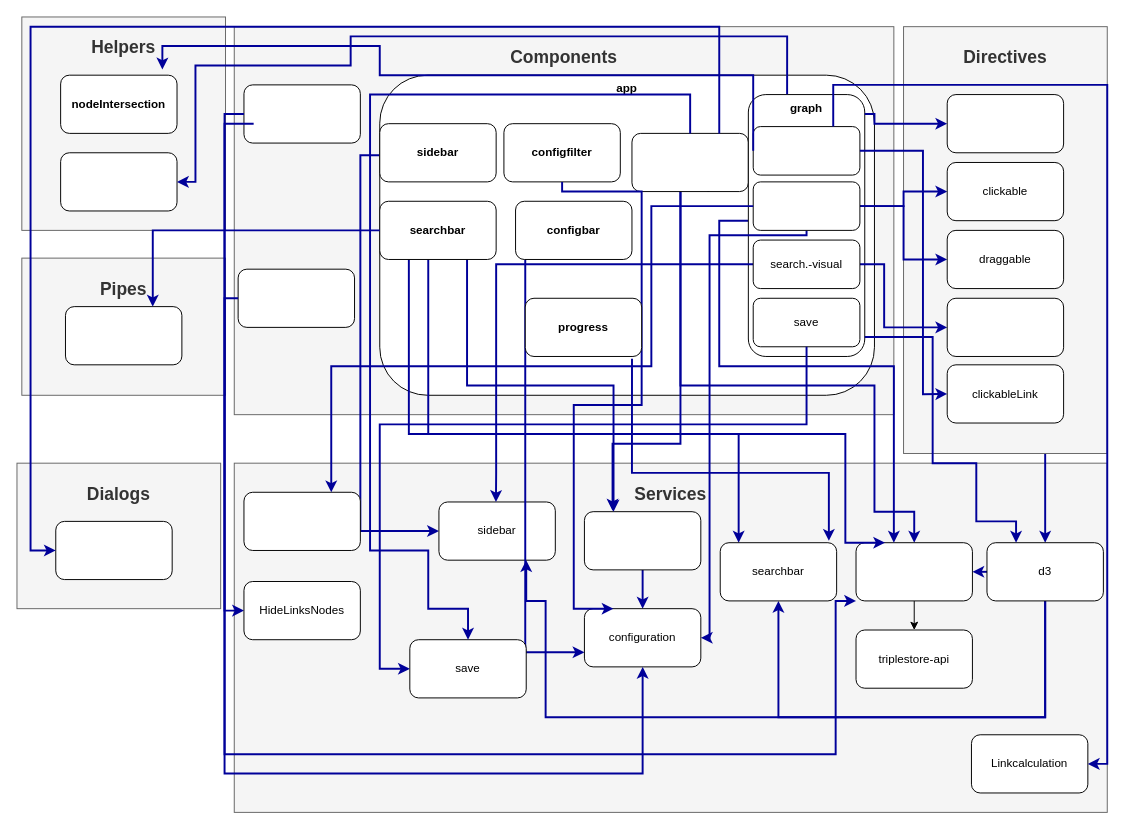
Image size: 1133x829. Some labels were removed from this diagram. The shapes that lost their labels are listed below. From the top down, each one's centre as x and y in pixels, then its label:
point 301,113: configHideLinks
point 1005,123: zoomable
point 689,162: navbar
point 806,150: link-visual
point 118,181: sizeCalculator
point 806,205: node-visual
point 296,297: configHideNodes
point 123,335: highlight
point 1005,326: searchable
point 301,520: Nodecalculation
point 642,540: autocomplete-api
point 113,550: plotconfig
point 913,571: triplestore
